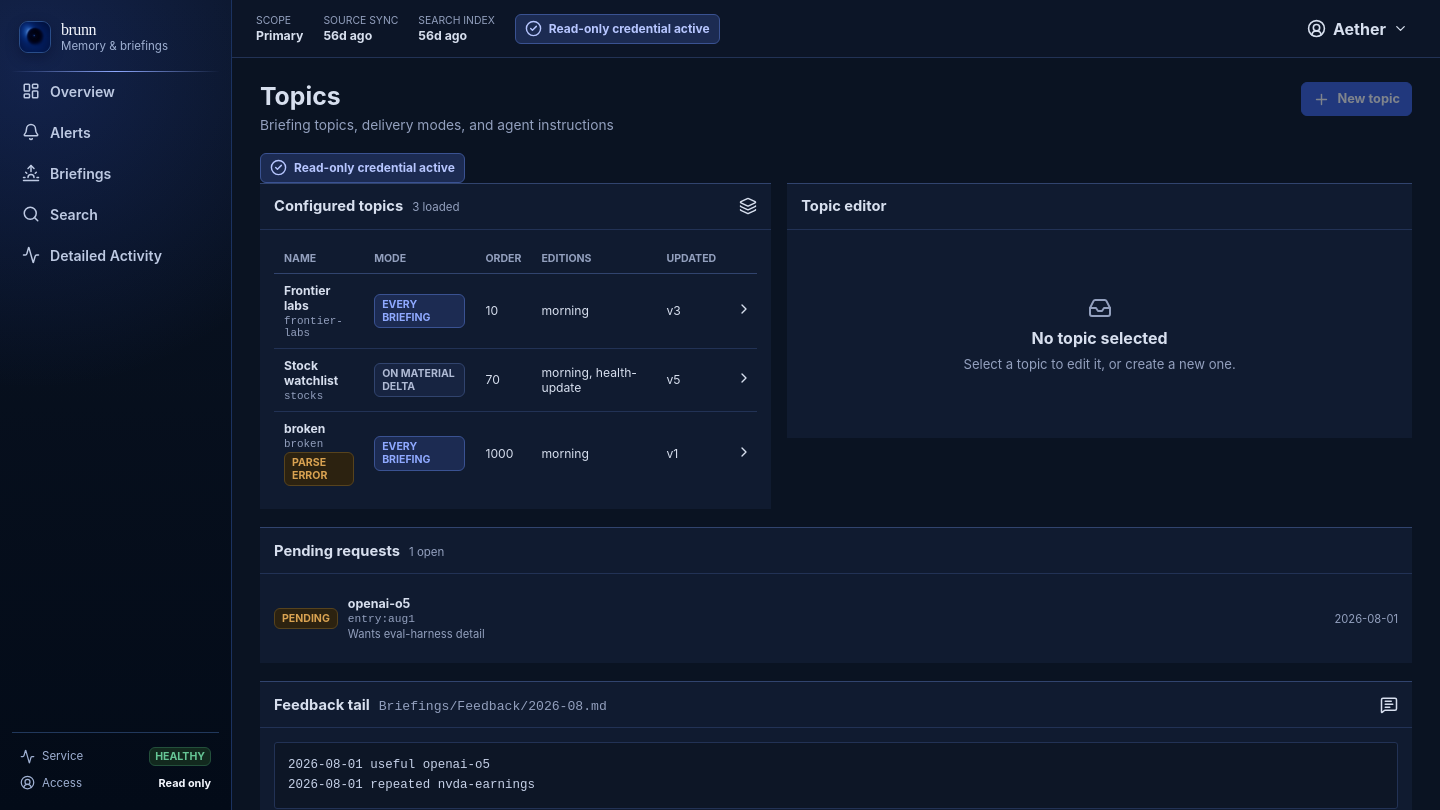
briefing topics management › keeps topic writes disabled for read-only credentials
Expected: the button "New topic" is disabled, top-left (1301, 82), bottom-right (1412, 116)
Click the row named "Edit topic Stock watchlist": (516,380) top-left (274, 348), bottom-right (757, 411)
(page scrolled)
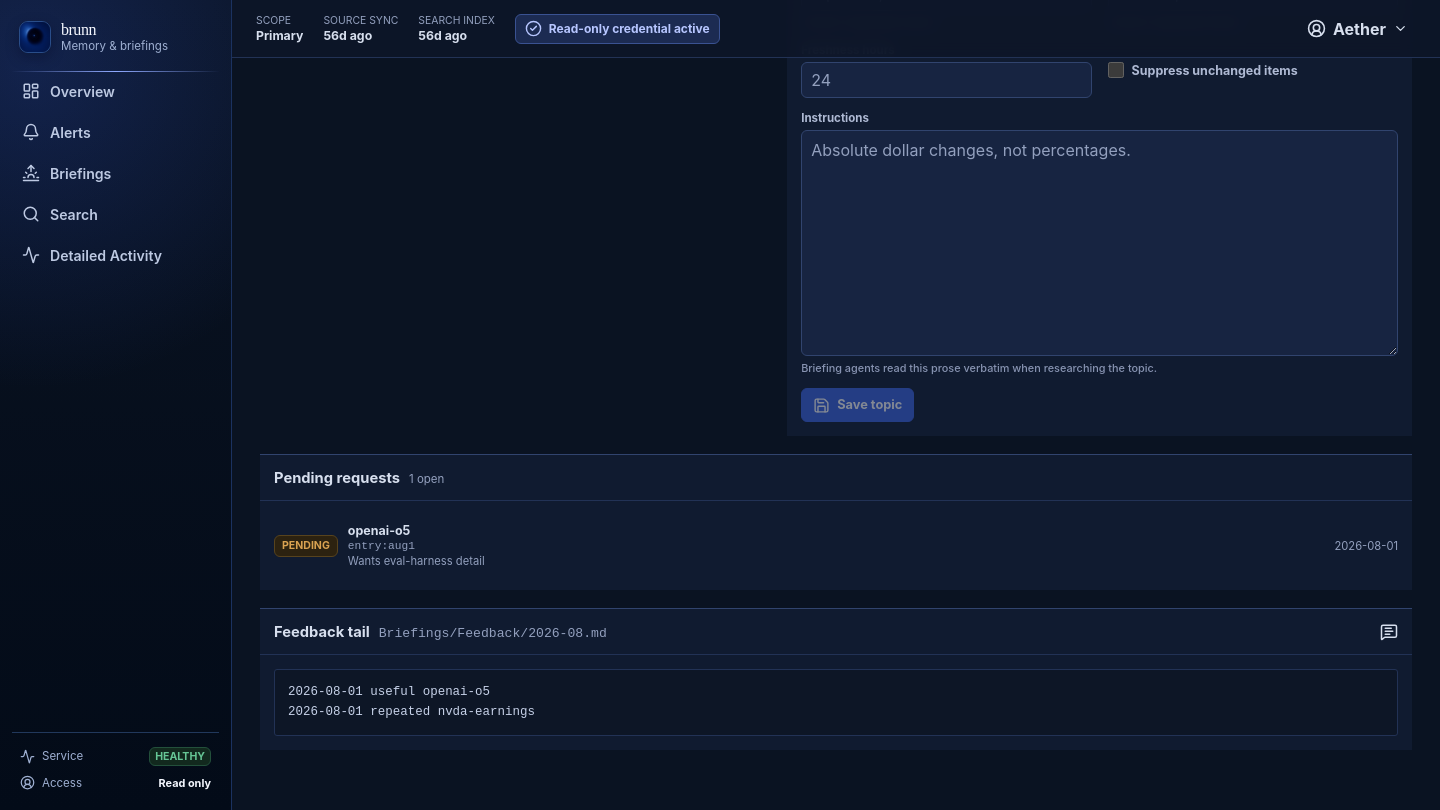
Expected: the button "Save topic" is disabled, top-left (801, 388), bottom-right (914, 422)
